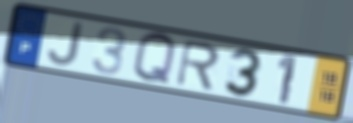1: (275, 53, 300, 107)
3: (224, 46, 263, 99), (91, 26, 128, 75)
J: (46, 21, 86, 68)
Q: (131, 31, 179, 87)
R: (173, 38, 222, 92)
